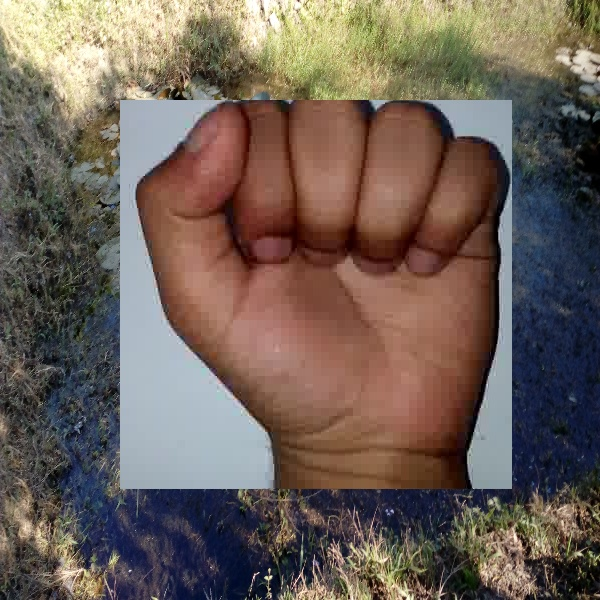A: (120, 100, 512, 489)
